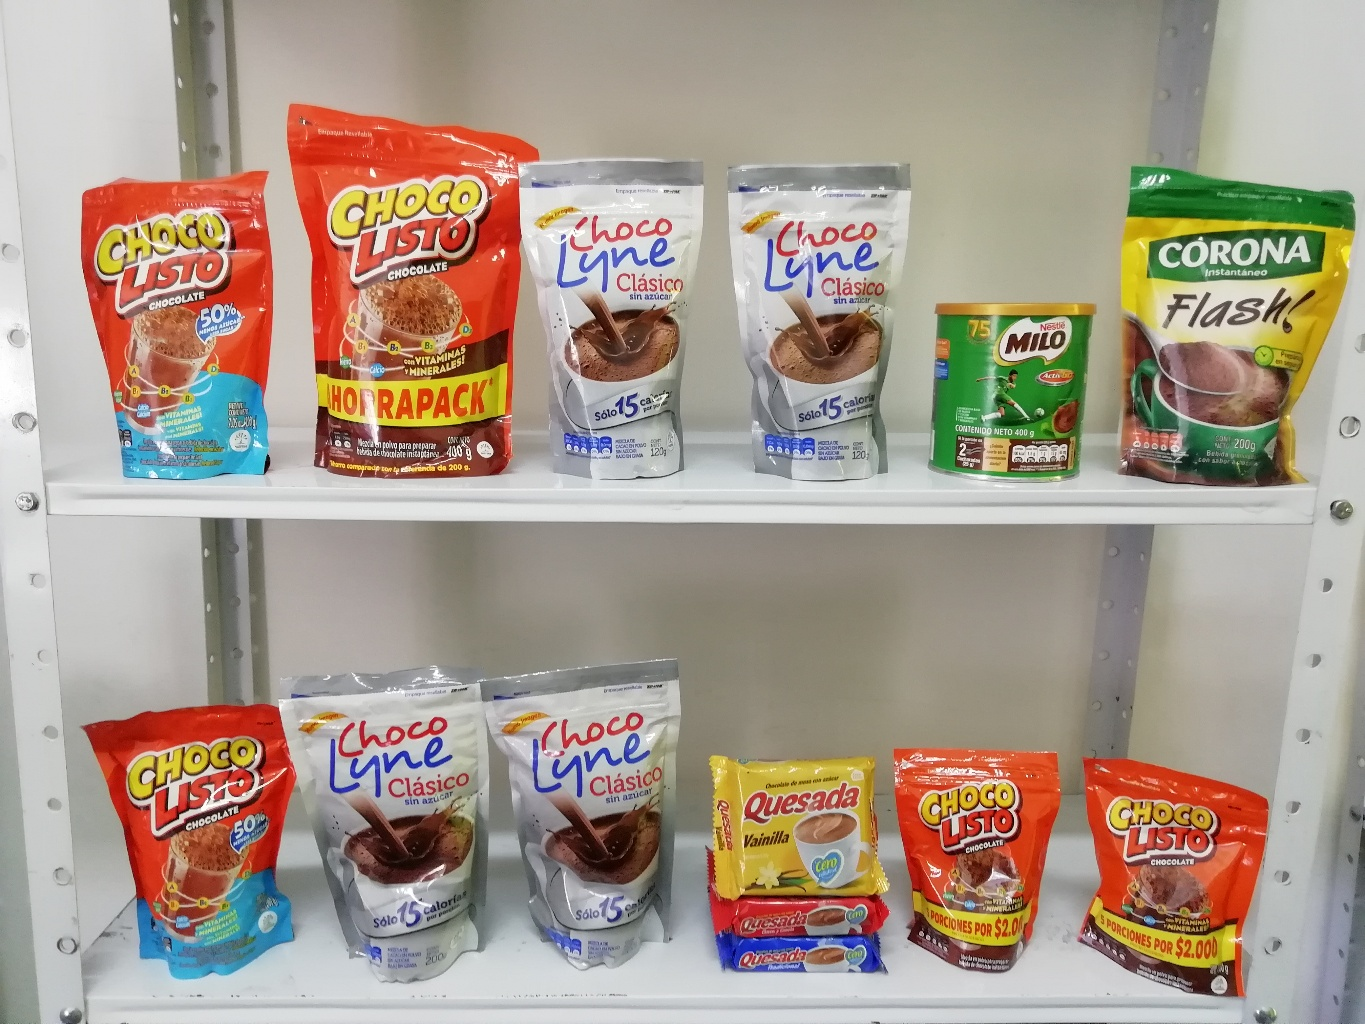COL0170103DYP10000: (1073, 738, 1272, 1004)
COL0170103DYP40000: (286, 106, 539, 471)
COL0170104DYP20000: (80, 165, 304, 494)
COL0170203LAT40000: (919, 287, 1128, 497)
